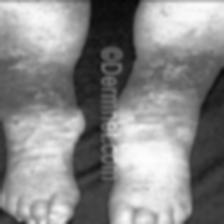Non-Cancerous Skin Condition: (14, 43, 58, 120), (163, 46, 220, 74)
